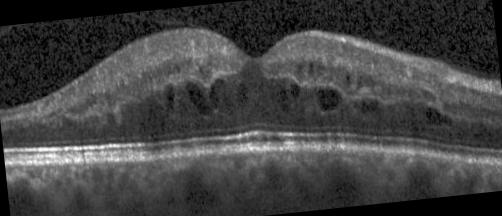intraretinal_cyst: (185, 81, 212, 115), (209, 79, 235, 114), (425, 107, 453, 126), (317, 89, 338, 111), (237, 82, 247, 106), (360, 99, 378, 111), (166, 87, 174, 110), (275, 89, 289, 102), (290, 83, 300, 97), (344, 69, 352, 85), (307, 62, 314, 73)
vitreomacular_traction: (125, 13, 198, 28)
